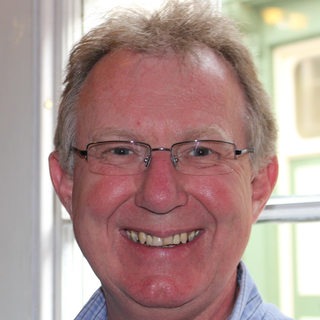eye: (175, 141, 222, 165), (97, 141, 143, 164)
